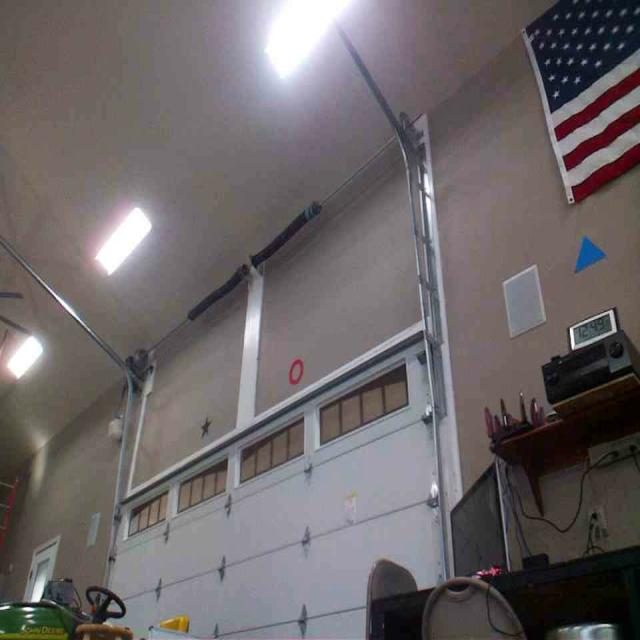ring_red: (287, 357, 305, 385)
star_black: (199, 412, 213, 438)
triangle_blue: (572, 237, 605, 271)
